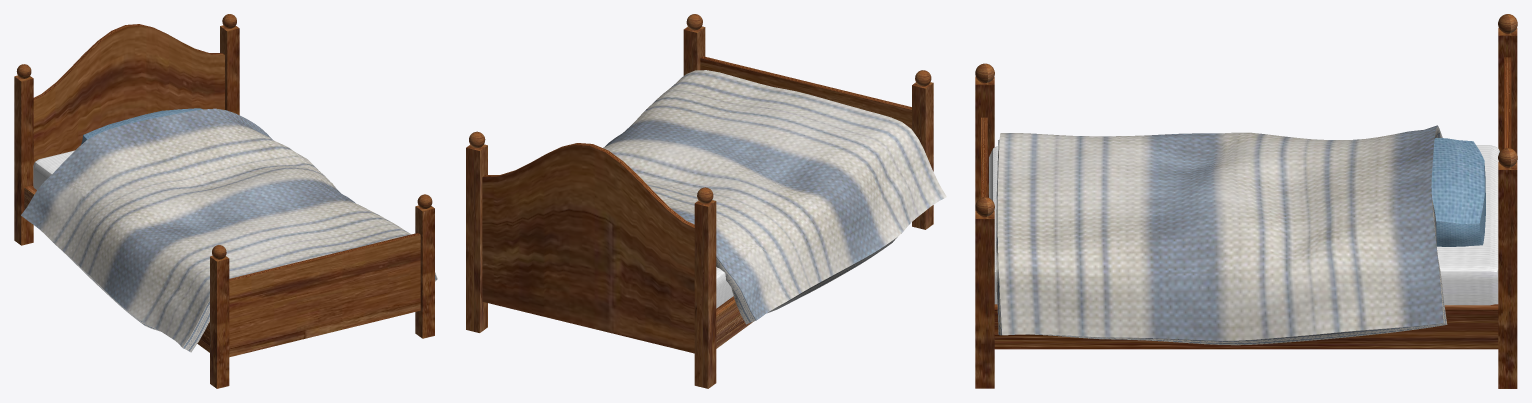
Rendered from BedZumo.fbx.
3 renders of one model, left to right at view 1: azimuth 30°, elevation 25°; view 2: azimuth 150°, elevation 25°; view 3: azimuth 270°, elevation 25°, orthographic. The views are drawn at different scales.
Visible parts, largest first — view 1: bed1; view 2: bed1; view 3: bed1.
Boxes of the visible parts, x1,y1,x2,y2 form: bed1: (14,14,437,388); bed1: (466,14,946,388); bed1: (975,14,1517,388).
Bounding box in the file's own units: 58.69 × 41.14 × 79.48.
